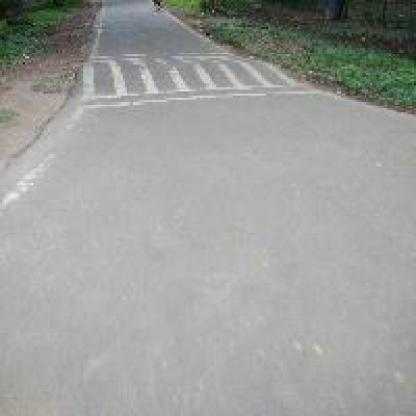Speed Bump: (85, 48, 291, 110)
